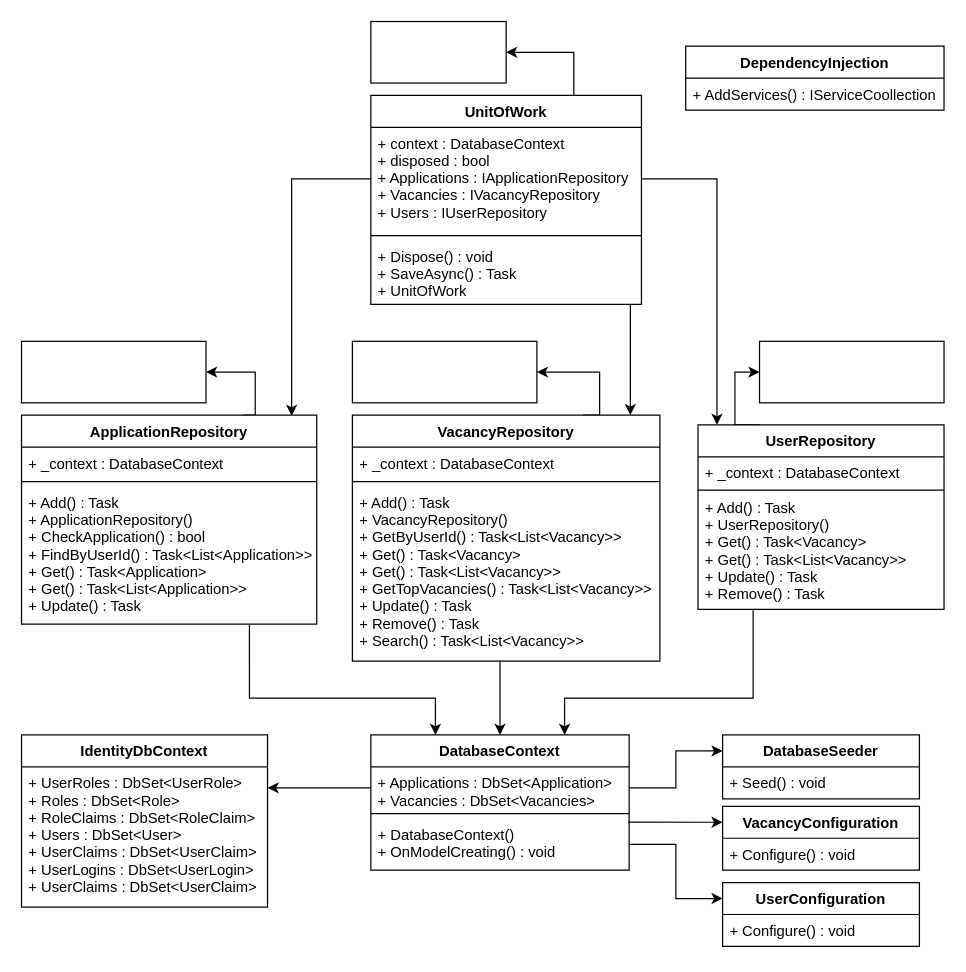
Image size: 966x972. Some labels were removed from this diagram. Here are the shapes that lost their labels. From the top down, the centre of each, then its label:
the point at 438,51: «interface» IUnitOfWork
the point at 113,371: «interface» IApplicationRepository
the point at 444,371: «interface» I VacancyRepository
the point at 851,371: «interface» I UserRepository
